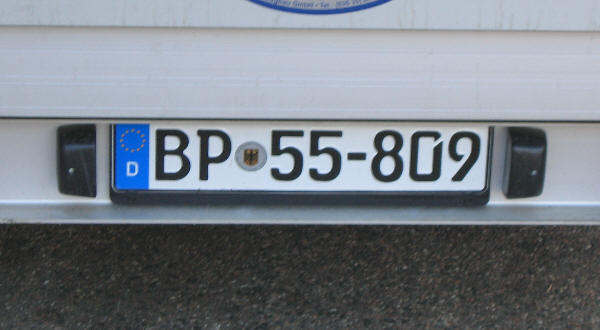license_plate: (108, 122, 491, 194)
